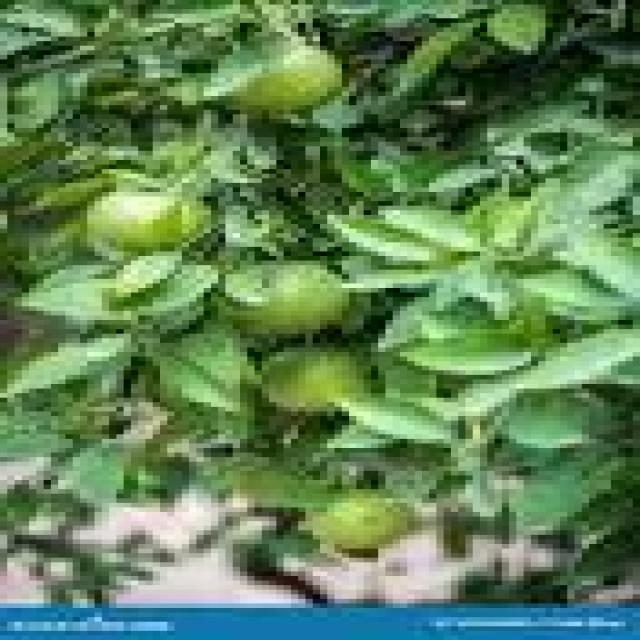orange: (225, 261, 349, 334), (225, 37, 342, 114), (87, 183, 211, 251), (262, 347, 364, 411), (305, 489, 407, 553)
